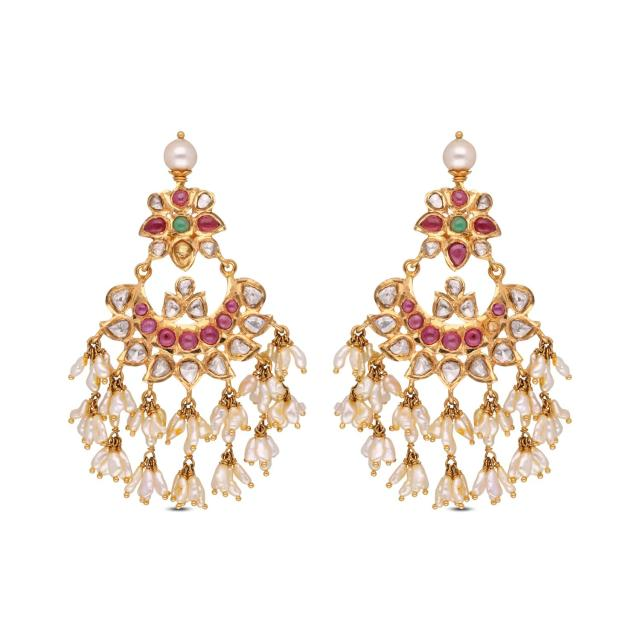missing gem: (173, 241, 193, 268), (487, 320, 498, 331)
